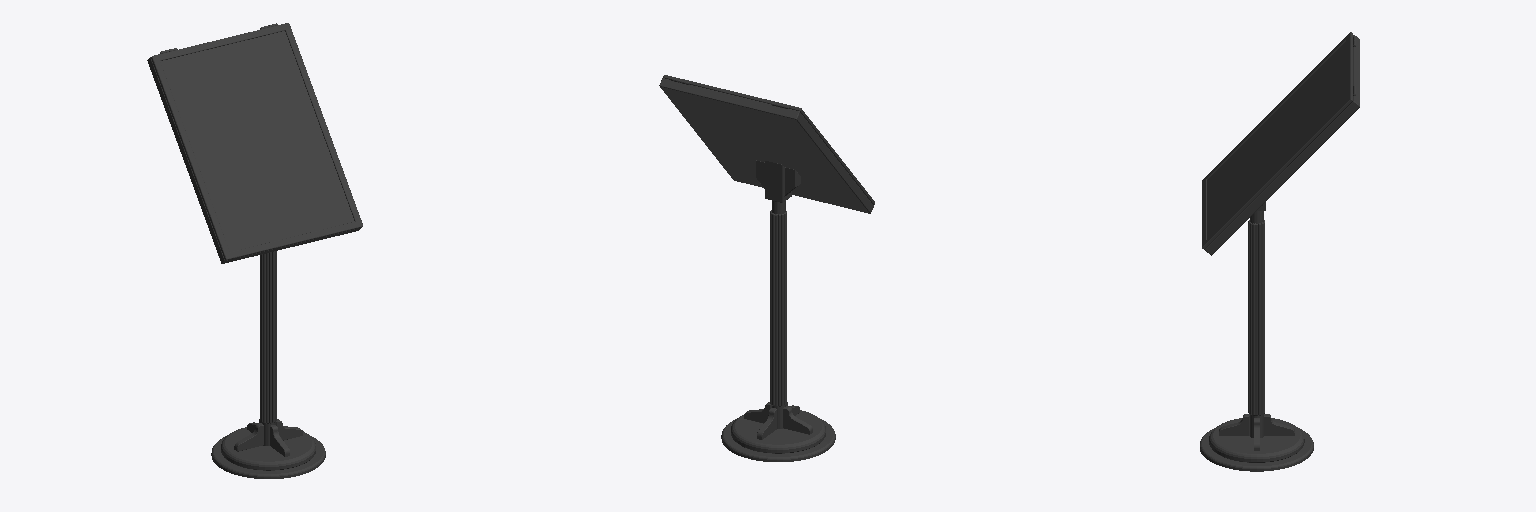
File: text-sign.obj
The picture shows the model from 3 angles: view 1: azimuth 30°, elevation 25°; view 2: azimuth 150°, elevation 25°; view 3: azimuth 270°, elevation 25°; orthographic projection.
Visible parts, largest first — view 1: Menu_stand_03_cap.001, Menu_stand_03.001; view 2: Menu_stand_03.001, Menu_stand_03_cap.001; view 3: Menu_stand_03_cap.001, Menu_stand_03.001.
Part boxes in pixels (bbox=[...]): Menu_stand_03_cap.001: bbox=[151, 23, 362, 260]; Menu_stand_03.001: bbox=[147, 57, 360, 478]; Menu_stand_03.001: bbox=[659, 78, 873, 461]; Menu_stand_03_cap.001: bbox=[663, 75, 874, 204]; Menu_stand_03_cap.001: bbox=[1202, 32, 1355, 249]; Menu_stand_03.001: bbox=[1200, 35, 1359, 471].
Bounding box in the file's own units: 50 × 133 × 50.6.